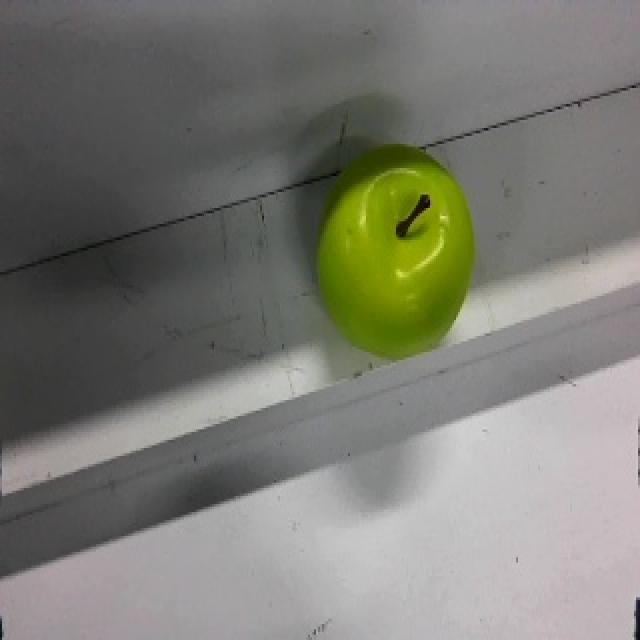apple: (306, 133, 476, 360)
